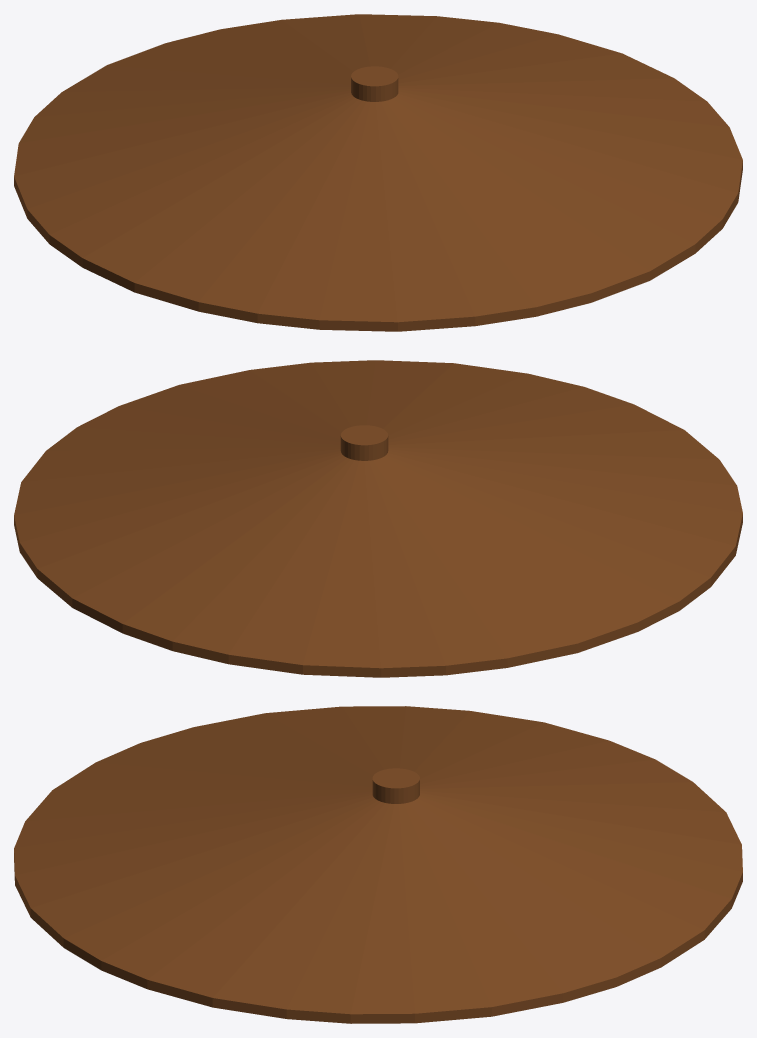
File: Lid_Ori_1128.fbx
3 renders of one model, top to bottom at view 1: azimuth 30°, elevation 25°; view 2: azimuth 150°, elevation 25°; view 3: azimuth 270°, elevation 25°, orthographic.
Parts seen in each view (by area): view 1: Lid; view 2: Lid; view 3: Lid.
Part boxes in pixels (box(x1,y1,x2,y2)): Lid: box(14, 14, 742, 331); Lid: box(14, 360, 742, 677); Lid: box(14, 706, 742, 1023).
Bounding box in the file's own units: 290 × 41.25 × 290.
